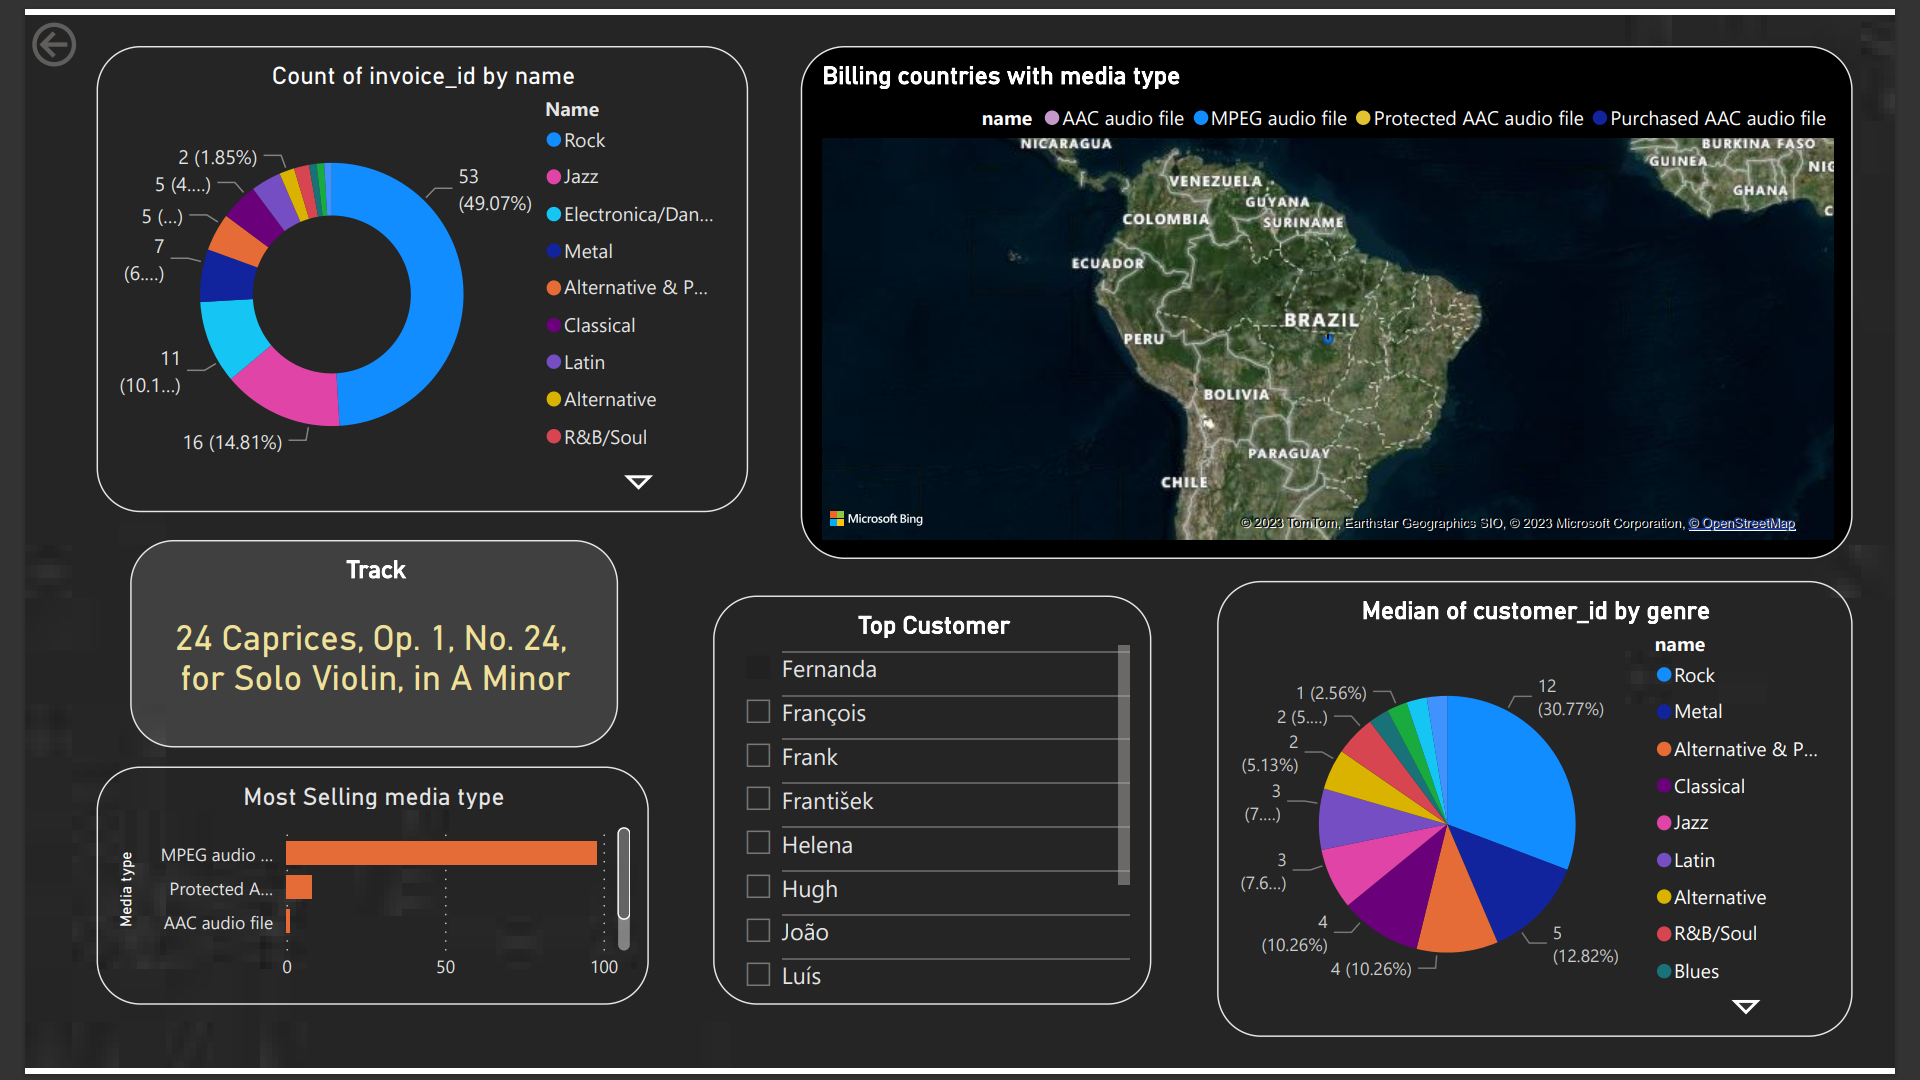

Layout of this report page (visuals, bound fields, positions):
{"tool":"powerbi","page":{"name":"Page 1","canvas":[1280,720],"ordinal":0},"visuals":[{"type":"actionButton","box":[0,0,100,40],"z":1000},{"type":"map","title":"Billing countries with media type","fields":{"Category":["invoice.billing_country"],"Size":["invoice_line.quantity"],"Series":["media_type.name"]},"box":[531,20.8,720,351.5],"z":2000},{"type":"pieChart","title":"Median of customer_id by genre","fields":{"Category":["genre.name"],"Y":["invoice.customer_id"]},"box":[816.4,387.4,434.6,311.8],"z":3000},{"type":"slicer","title":"Top Customer","fields":{"Values":["customer.first_name"]},"box":[470.6,396.9,300.5,279.7],"z":4000},{"type":"donutChart","fields":{"Category":["genre.name"],"Y":["invoice_line.invoice_id"]},"box":[49.1,20.8,446,319.4],"z":5000},{"type":"card","title":" Track","fields":{"Values":["track.name"]},"box":[71.8,359.1,334.5,141.7],"z":6000},{"type":"clusteredBarChart","title":"Most Selling media type","fields":{"Category":["media_type.name"],"Y":["invoice_line.invoice_id"]},"box":[49.1,514,378,162.5],"z":7002}]}

Visuals, with their boxes in screenshot pixels (x1, y1, x2, y2), scaled from the page's 1280x720 canvas onto the 1920x1080 screenshot:
actionButton: (0,0,150,60)
"Billing countries with media type" map: (796,31,1876,558)
"Median of customer_id by genre" pieChart: (1225,581,1876,1049)
"Top Customer" slicer: (706,595,1157,1015)
donutChart - genre.name x invoice_line.invoice_id: (74,31,743,510)
" Track" card: (108,539,609,751)
"Most Selling media type" clusteredBarChart: (74,771,641,1015)
